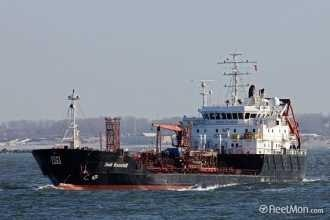otherboat: (26, 47, 311, 189)
